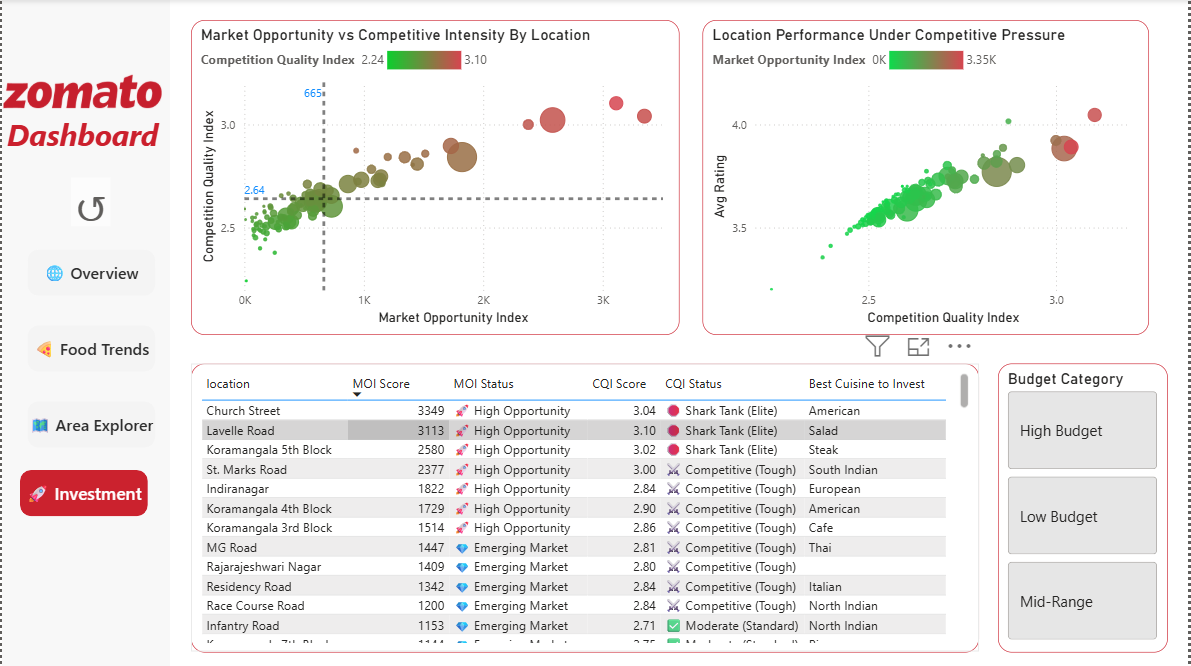

Layout of this report page (visuals, bound fields, positions):
{"tool":"powerbi","page":{"name":"🚀 Investment","canvas":[1280,720],"ordinal":3},"visuals":[{"type":"group","id":"g1","title":"sideBar","box":[0,0,314.9,720],"z":0},{"type":"shape","box":[0,0,181.4,720],"z":0,"group":"g1"},{"type":"image","box":[2,63,170.7,73.1],"z":1000,"group":"g1"},{"type":"pageNavigator","box":[18.9,262.7,155,315.6],"z":2000,"group":"g1"},{"type":"textbox","box":[0,117.8,314.9,75.2],"z":2500,"group":"g1"},{"type":"actionButton","box":[74.2,193,42.9,52.8],"z":3000,"group":"g1"},{"type":"scatterChart","title":"Market Opportunity vs Competitive Intensity By Location","fields":{"X":["_Measures.Market Opportunity Index"],"Y":["_Measures.Competition Quality Index"],"Category":["zomato_cleaned.location"],"Size":["_Measures.Total Votes"]},"box":[204.1,22.7,527.2,340.2],"z":4000},{"type":"tableEx","fields":{"Values":["zomato_cleaned.location","_Measures.Market Opportunity Index","_Measures.MOI Status","_Measures.Competition Quality Index","_Measures.CQI Status","_Measures.Best Cuisine to Invest"]},"box":[204.1,393.1,850.4,311.8],"z":5000},{"type":"scatterChart","title":"Location Performance Under Competitive Pressure","fields":{"X":["_Measures.Competition Quality Index"],"Y":["_Measures.Avg Rating"],"Category":["zomato_cleaned.location"],"Size":["_Measures.Total Votes"]},"box":[755.9,22.7,481.9,340.2],"z":6000},{"type":"advancedSlicerVisual","fields":{"Values":["zomato_cleaned.Budget Category"]},"box":[1075.3,393.1,183.3,311.8],"z":7000}]}

Visuals, with their boxes in screenshot pixels (x1, y1, x2, y2), scaled from the page's 1280x720 canvas onto the 1191x666 screenshot:
"sideBar" group: (0, 0, 293, 665)
shape: (0, 0, 169, 665)
image: (2, 58, 161, 126)
pageNavigator: (18, 243, 162, 535)
textbox: (0, 109, 293, 179)
actionButton: (69, 179, 109, 227)
"Market Opportunity vs Competitive Intensity By Location" scatterChart: (190, 21, 680, 336)
tableEx - zomato_cleaned.location x _Measures.Market Opportunity Index: (190, 364, 981, 652)
"Location Performance Under Competitive Pressure" scatterChart: (703, 21, 1152, 336)
advancedSlicerVisual - zomato_cleaned.Budget Category: (1001, 364, 1171, 652)
